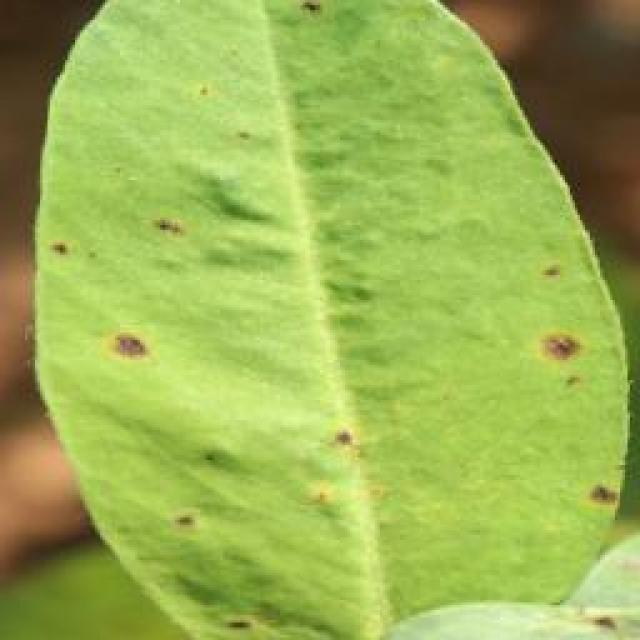Sigatoka: (151, 503, 255, 603), (543, 290, 613, 401), (95, 316, 179, 386), (151, 206, 220, 278), (538, 228, 588, 312), (565, 580, 630, 640), (592, 468, 632, 539), (320, 407, 367, 464), (296, 0, 332, 41), (40, 232, 71, 270)
